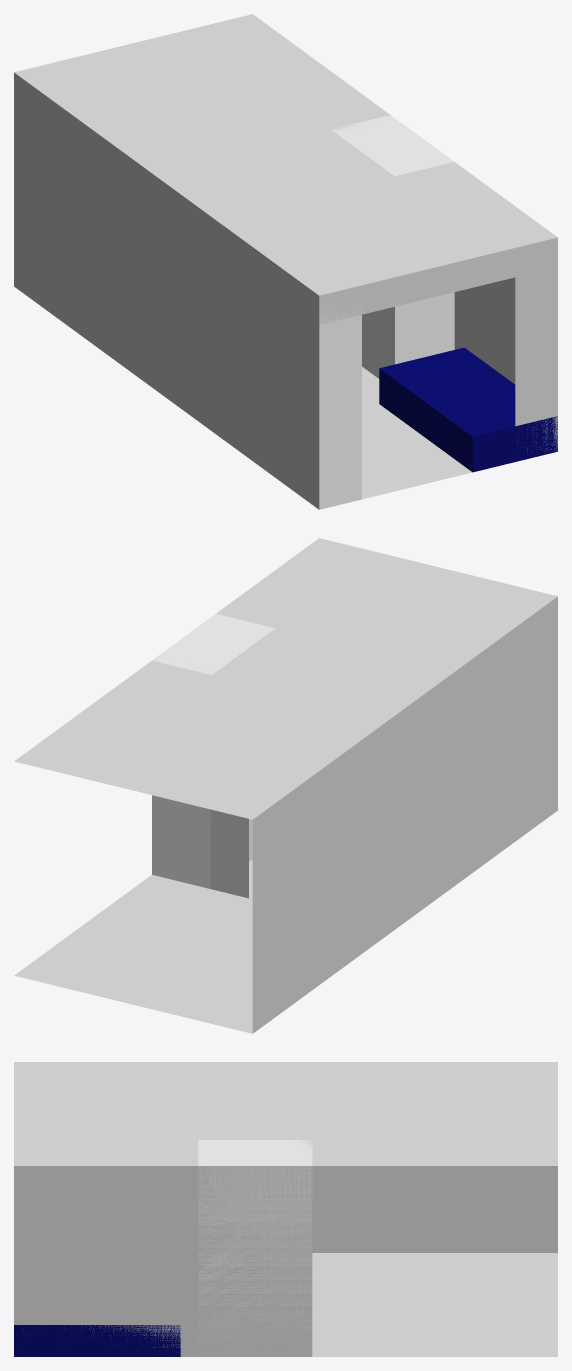
File: lakas.fbx
3 views of the same model, one above another, from view 1: azimuth 30°, elevation 25°; view 2: azimuth 150°, elevation 25°; view 3: azimuth 270°, elevation 25° (orthographic). The views are drawn at different scales.
Parts seen in each view (by area): view 1: Plane ceiling, Plane white wall, bed, closet, Plane white wall.005, Plane white wall.004, Plane white wall.003, Plane floor, Plane concrete wall; view 2: Plane ceiling, Plane white wall, Plane floor, closet, Plane white wall.002; view 3: Plane ceiling, Plane concrete wall, Plane floor, Plane white wall, closet, bed.
Boxes of the visible parts, left/top/right/bottom form: Plane ceiling: left=14, top=14, right=557, bottom=295; Plane white wall: left=14, top=72, right=319, bottom=509; bed: left=379, top=347, right=557, bottom=472; closet: left=332, top=115, right=454, bottom=378; Plane white wall.005: left=319, top=288, right=361, bottom=509; Plane white wall.004: left=515, top=238, right=557, bottom=452; Plane white wall.003: left=319, top=237, right=557, bottom=324; Plane floor: left=362, top=366, right=472, bottom=499; Plane concrete wall: left=454, top=277, right=515, bottom=384; Plane ceiling: left=14, top=538, right=557, bottom=819; Plane white wall: left=252, top=596, right=557, bottom=1033; Plane floor: left=14, top=859, right=252, bottom=1033; closet: left=152, top=614, right=274, bottom=888; Plane white wall.002: left=210, top=809, right=248, bottom=898; Plane ceiling: left=14, top=1062, right=557, bottom=1165; Plane concrete wall: left=14, top=1166, right=312, bottom=1356; Plane floor: left=312, top=1253, right=557, bottom=1356; Plane white wall: left=312, top=1166, right=557, bottom=1252; closet: left=198, top=1140, right=312, bottom=1356; bed: left=14, top=1325, right=180, bottom=1356.
Bounding box in the file's own units: 280 × 240 × 620.
